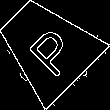P_NW: (16, 16, 77, 77)
